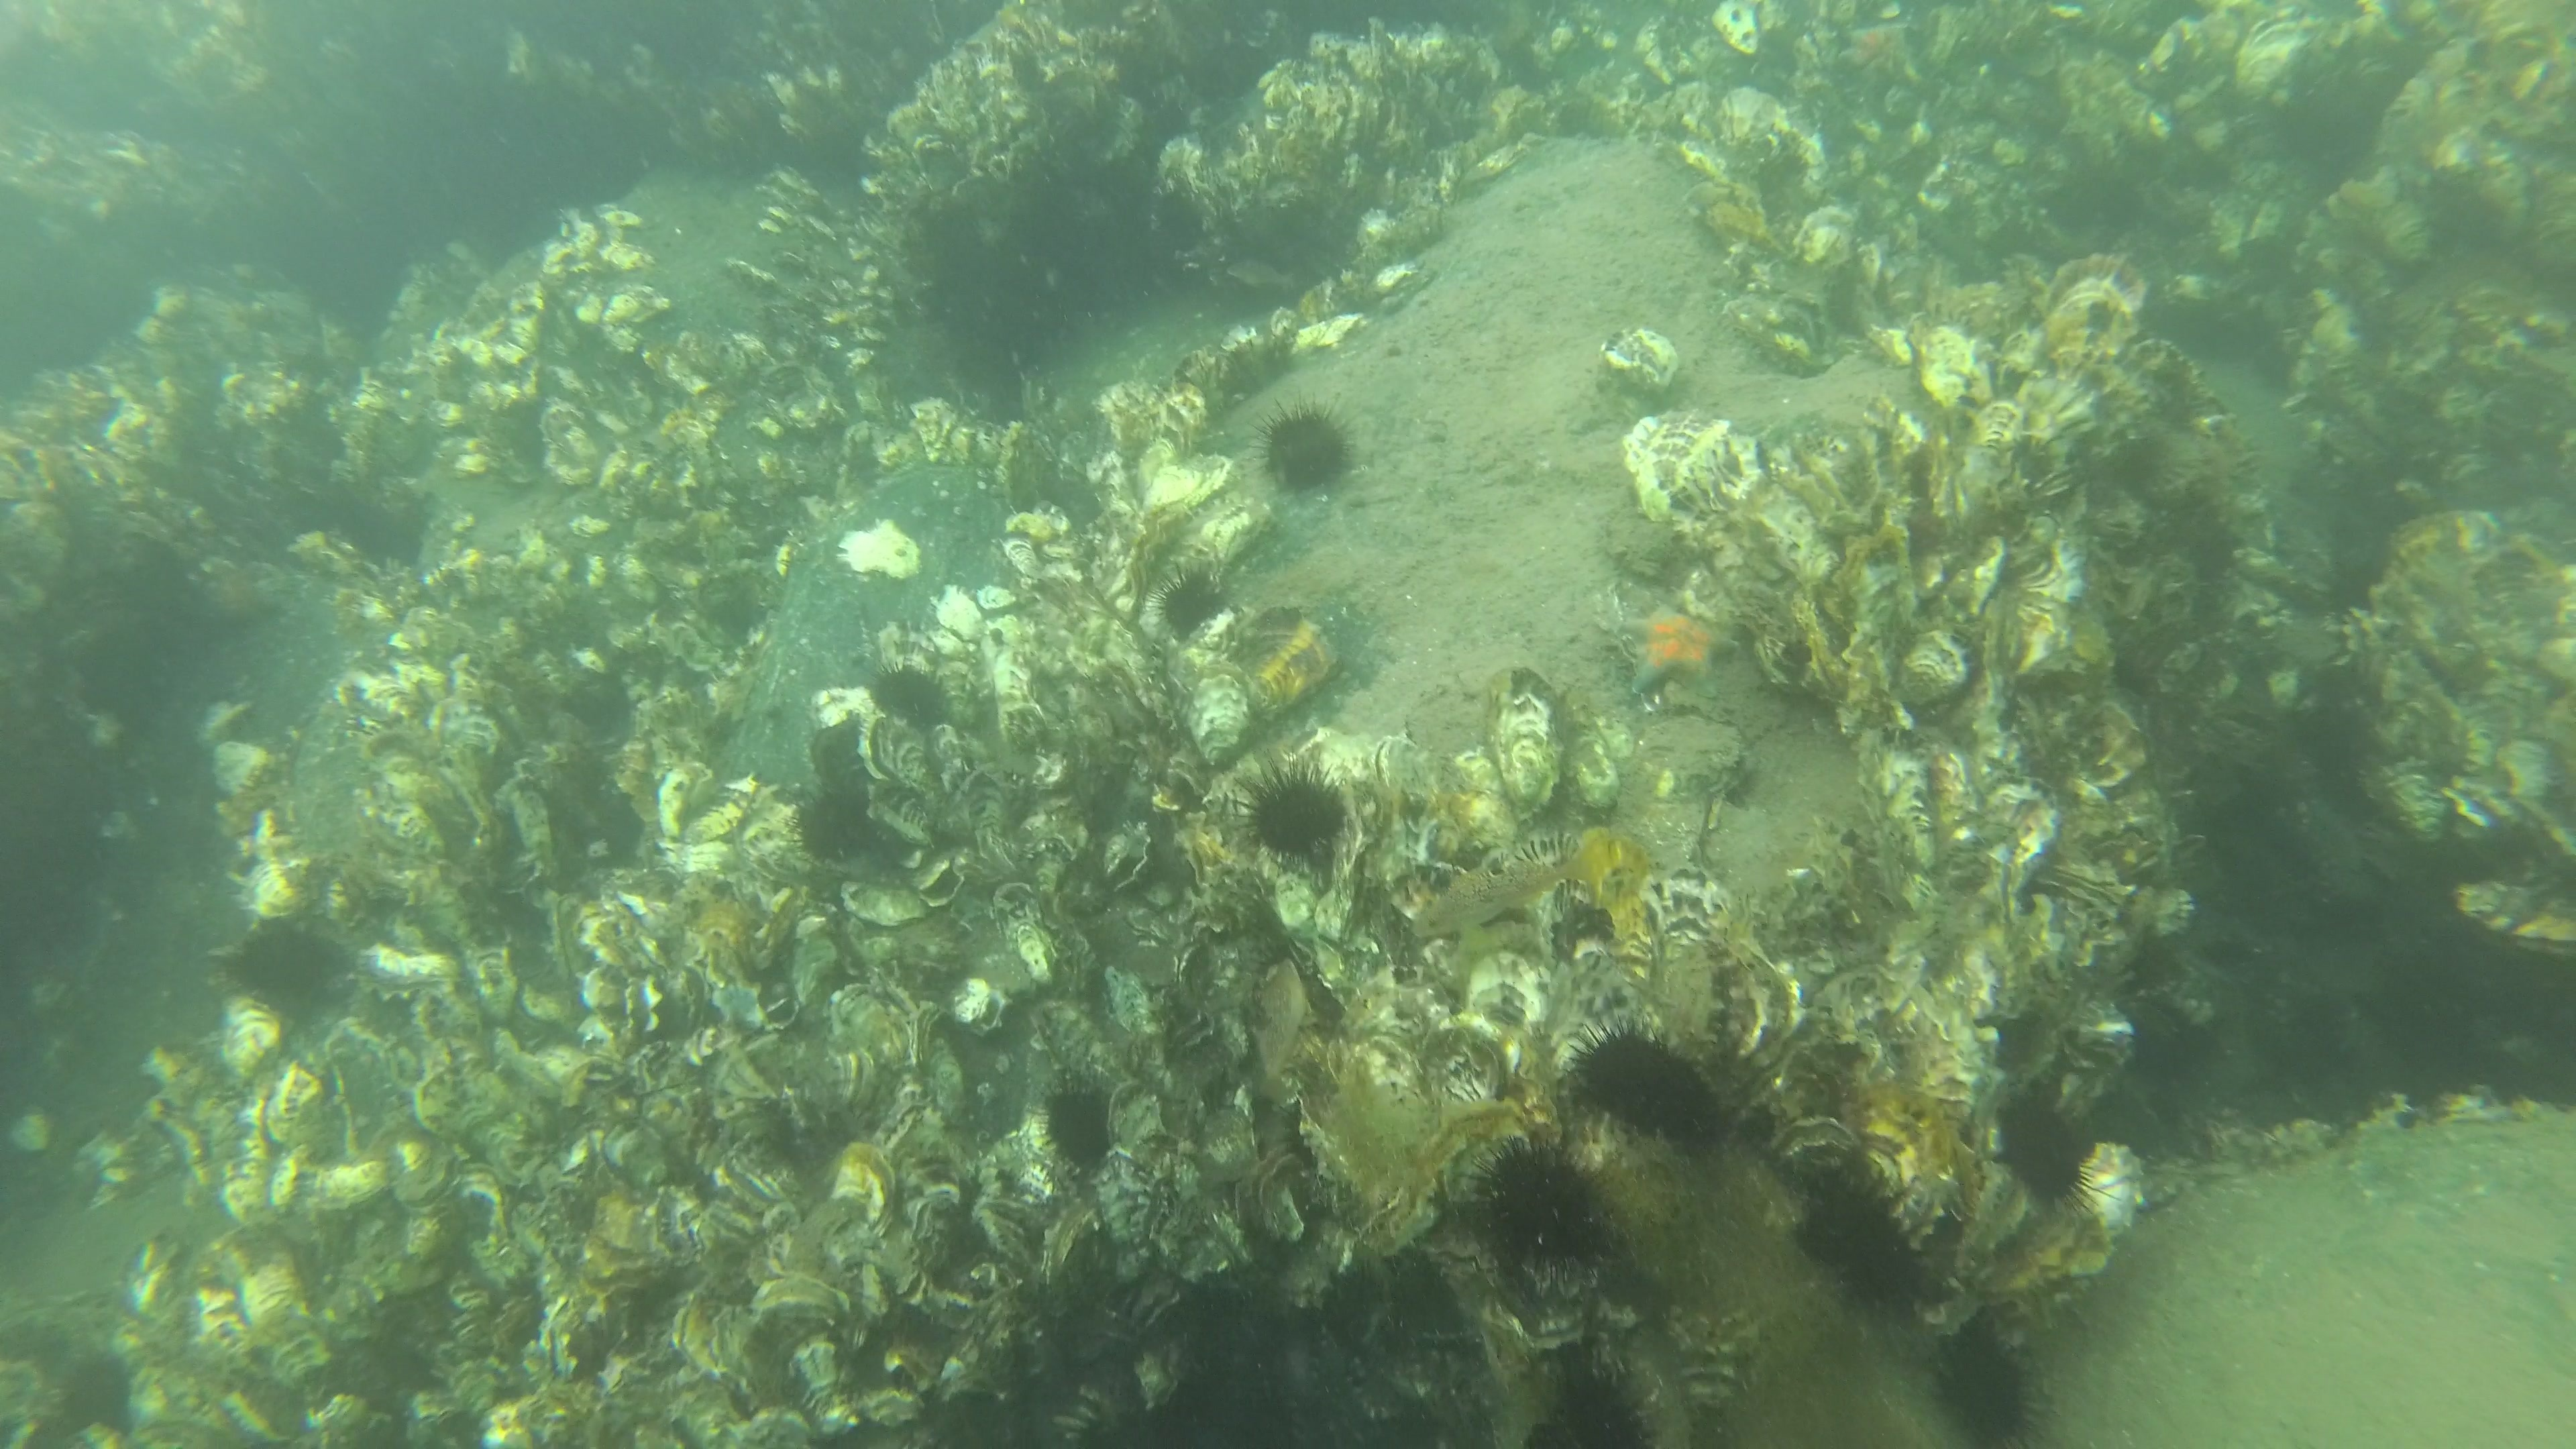echinus: (1566, 1001, 1739, 1152), (1794, 1161, 1936, 1323), (1474, 1136, 1612, 1281), (1985, 1083, 2107, 1217), (1930, 1307, 2045, 1449), (1235, 747, 1362, 869), (228, 909, 352, 1024), (1253, 393, 1373, 506), (1026, 1060, 1127, 1177), (48, 1341, 147, 1444), (782, 778, 886, 869), (862, 653, 966, 736), (1150, 557, 1235, 644)
starfish: (1610, 600, 1730, 699)
